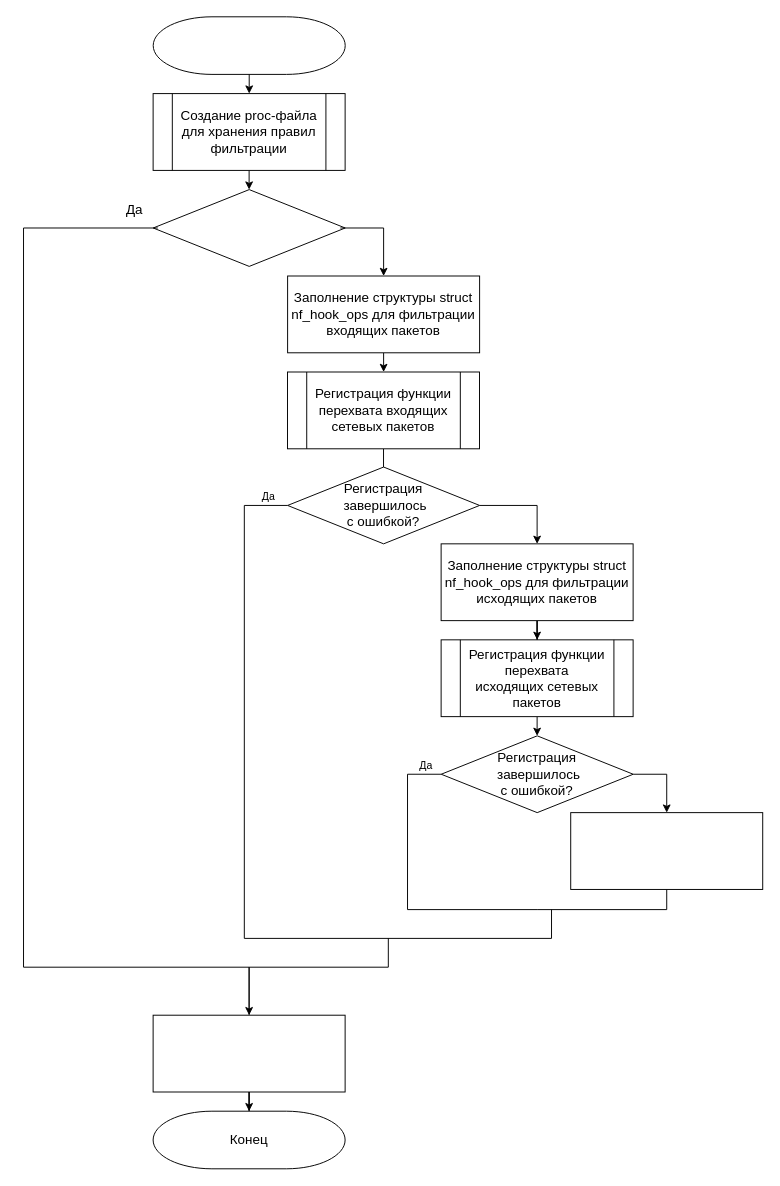
Image size: 780x1186. Some labels were removed from this diagram. Each missing label, with the box of its shape:
Вернуть код ошибки: (152, 1014, 345, 1092)
Код ошибки = 0: (570, 812, 763, 889)
Начало: (152, 16, 345, 74)
Создание файла завершилось с ошибкой?: (152, 189, 345, 266)
